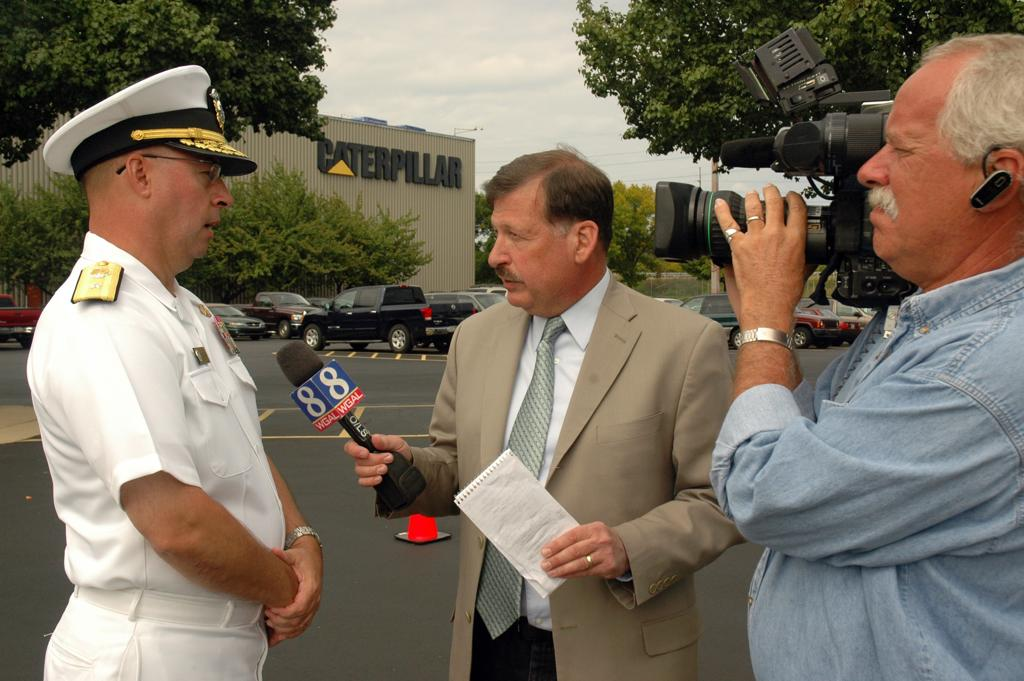face: (860, 78, 980, 278), (150, 124, 230, 282), (486, 186, 564, 310)
